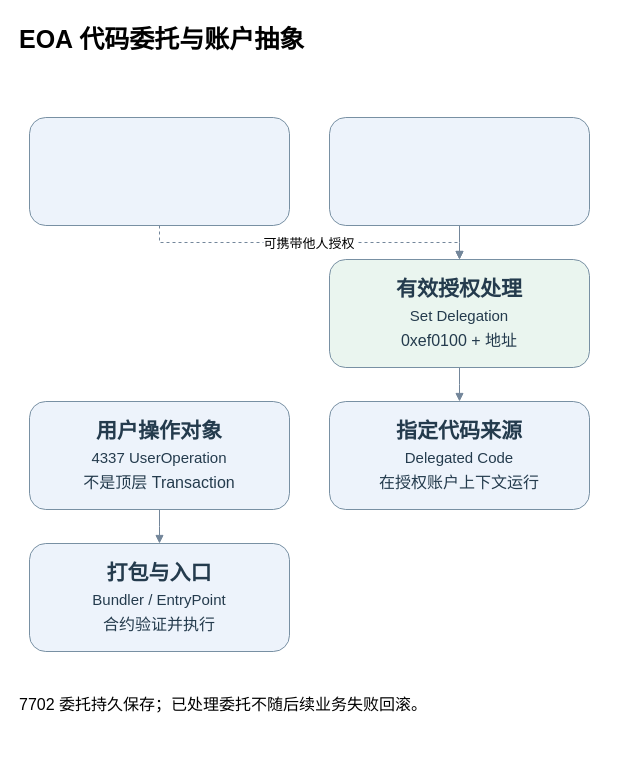
This 618x775 diagram has some shape labels left out. Each missing label, with the centre of its shape:
外层提交者 Transaction Sender 提交并结算外层费: the point at 159,171
授权账户 7702 Authority 签署委托授权: the point at 459,171
